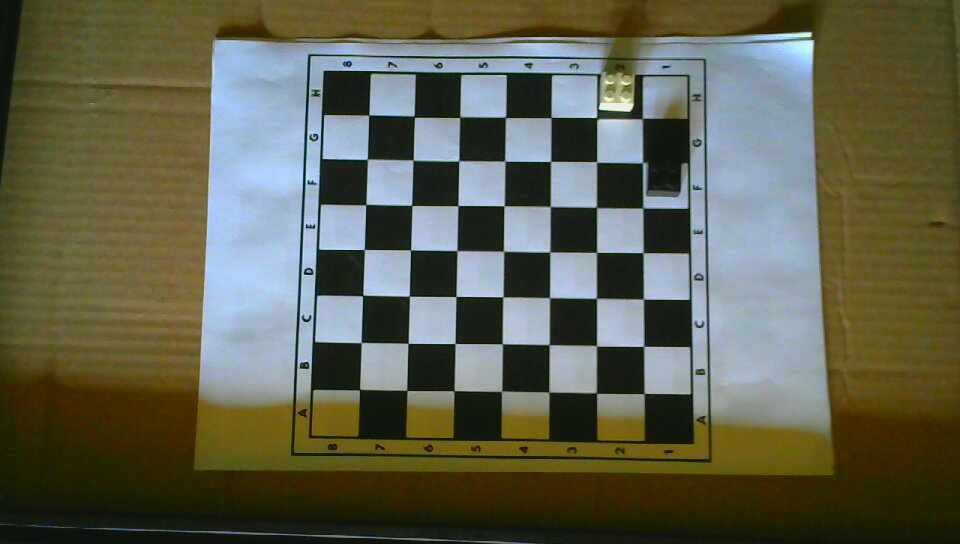bp: (644, 157, 682, 197)
wp: (597, 69, 635, 112)
